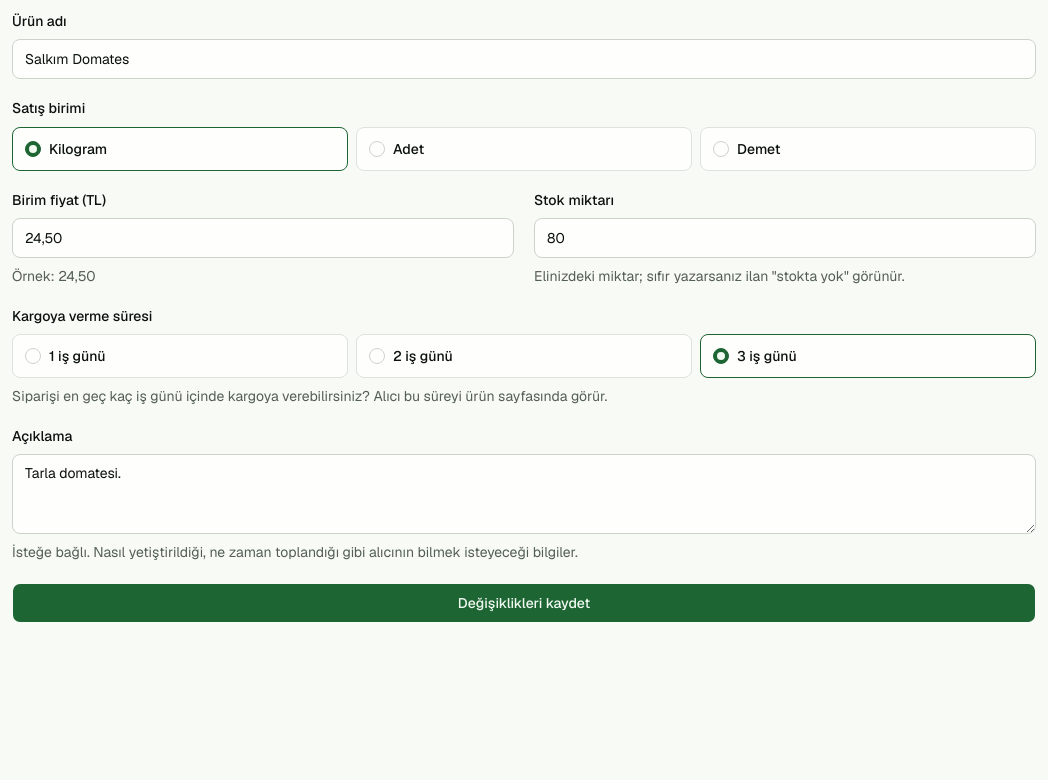
it: ListingForm › düzenlemede mevcut değerlerle gelir, PUT ile kaydeder ve sonucu bildirir
The image size is (1048, 780).
Expected: the field labelled "Birim fiyat (TL)" holds "24,50", [12,218,514,258]
Expected: the field labelled "Stok miktarı" holds "80", [534,218,1036,258]
Click the button "Değişiklikleri kaydet" at {"x": 524, "y": 603}, box [12,583,1036,623]
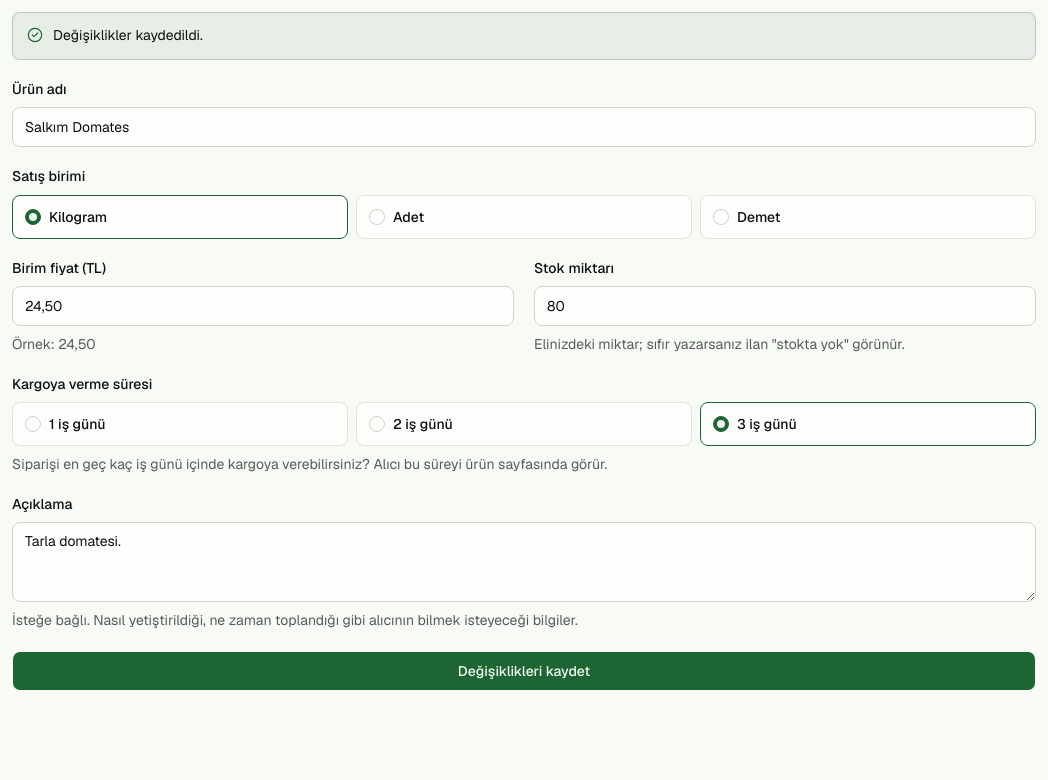
Now the text "Değişiklikler kaydedildi." is shown, box [53,26,203,44]
